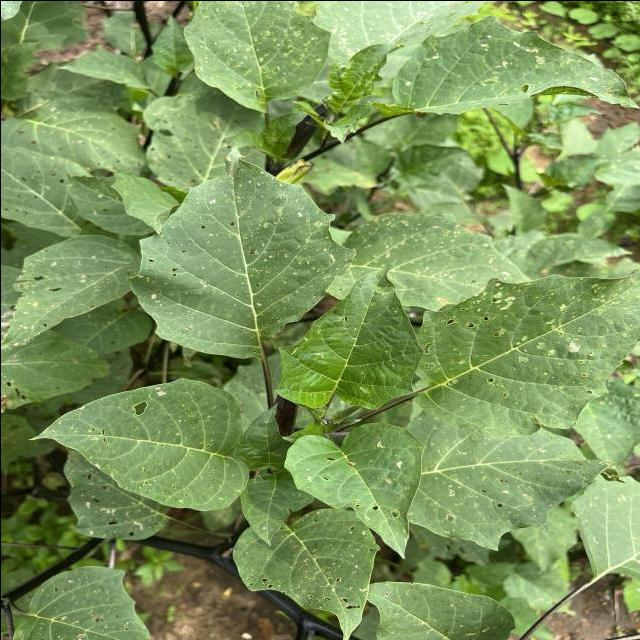Datura metal linn: (121, 142, 357, 362), (22, 373, 252, 512), (364, 11, 640, 119), (270, 255, 426, 412), (229, 502, 383, 640), (280, 418, 428, 560)
